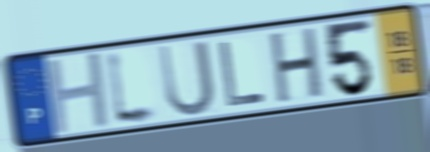5: (321, 17, 376, 99)
H: (44, 49, 114, 138), (268, 24, 325, 108)
L: (104, 45, 164, 131), (216, 38, 268, 110)
U: (156, 38, 218, 120)
